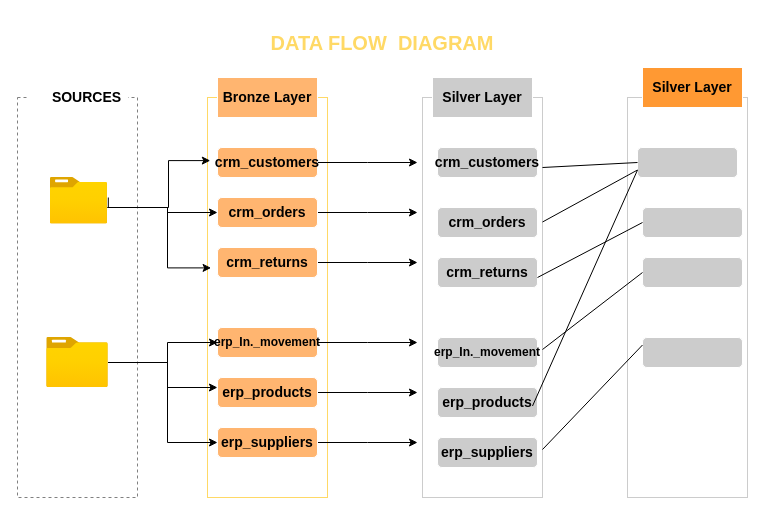
The diagram is 765 pixels wide and 515 high, and some of its shapes have lost their labels. Each missing label, with the centre of its shape:
CRM: (x=78, y=200)
ERP: (x=77, y=362)
Inventory movement: (x=692, y=272)
Orders: (x=687, y=162)
Returns: (x=692, y=222)
Suppliers: (x=692, y=352)
